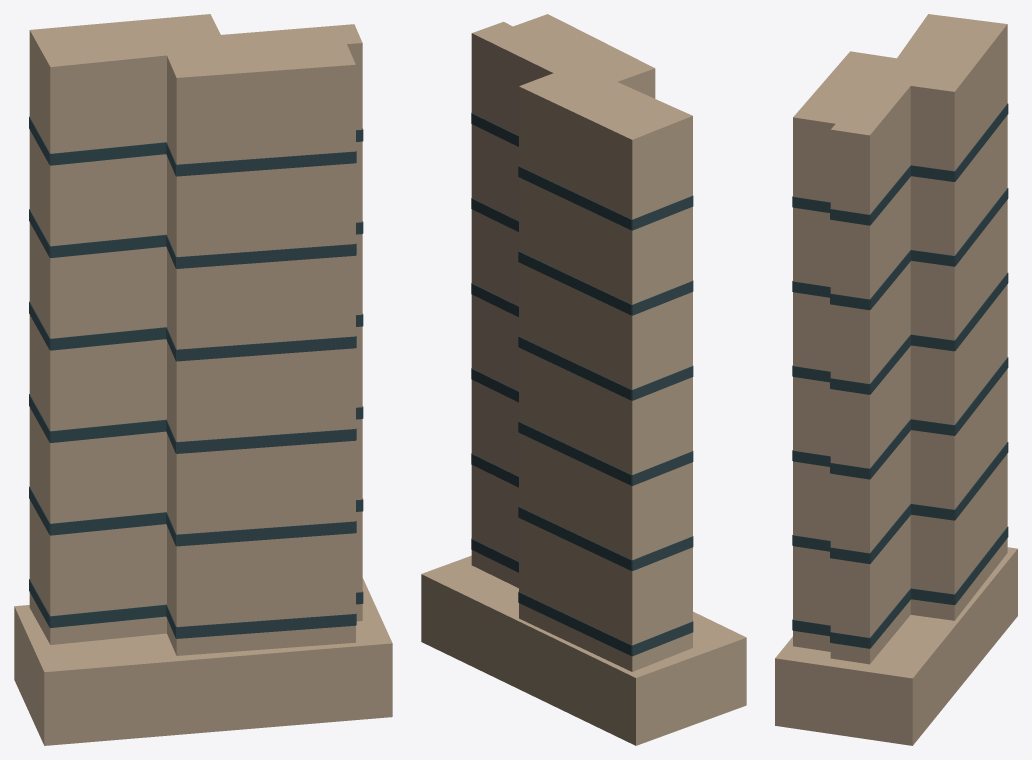
The model's file is bgc_building_0004_lod1.glb.
3 renders of one model, left to right at view 1: azimuth 30°, elevation 25°; view 2: azimuth 150°, elevation 25°; view 3: azimuth 270°, elevation 25°, orthographic. The views are drawn at different scales.
Parts seen in each view (by area): view 1: BGC_RUNTIME_002_M10_0004_Tower, BGC_RUNTIME_001_M10_0004_Podium, BGC_RUNTIME_M10_0004_FACADE_BANDS; view 2: BGC_RUNTIME_002_M10_0004_Tower, BGC_RUNTIME_001_M10_0004_Podium, BGC_RUNTIME_M10_0004_FACADE_BANDS; view 3: BGC_RUNTIME_002_M10_0004_Tower, BGC_RUNTIME_001_M10_0004_Podium, BGC_RUNTIME_M10_0004_FACADE_BANDS.
Part boxes in pixels (x1,y1,x2,y2): BGC_RUNTIME_002_M10_0004_Tower: (29,14,362,655); BGC_RUNTIME_001_M10_0004_Podium: (14,578,392,745); BGC_RUNTIME_M10_0004_FACADE_BANDS: (29,116,363,638); BGC_RUNTIME_002_M10_0004_Tower: (471,14,692,671); BGC_RUNTIME_001_M10_0004_Podium: (421,555,746,745); BGC_RUNTIME_M10_0004_FACADE_BANDS: (471,113,693,656); BGC_RUNTIME_002_M10_0004_Tower: (793,14,1007,664); BGC_RUNTIME_001_M10_0004_Podium: (775,547,1017,745); BGC_RUNTIME_M10_0004_FACADE_BANDS: (792,103,1008,648).
Bounding box in the file's own units: 82.48 × 153 × 56.41.
